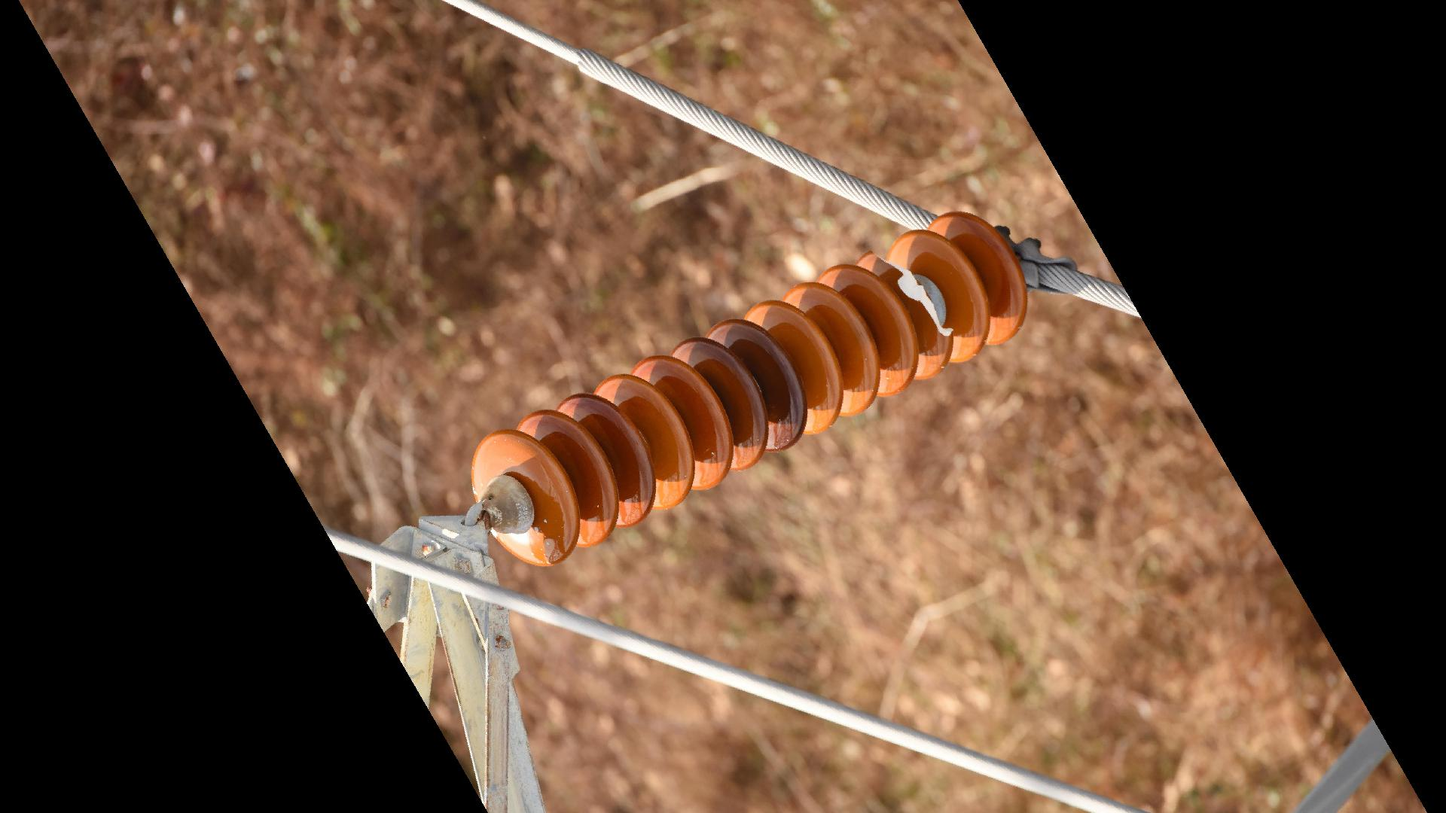insulator: (465, 203, 1035, 572)
insulator_breakage: (857, 247, 959, 348)
